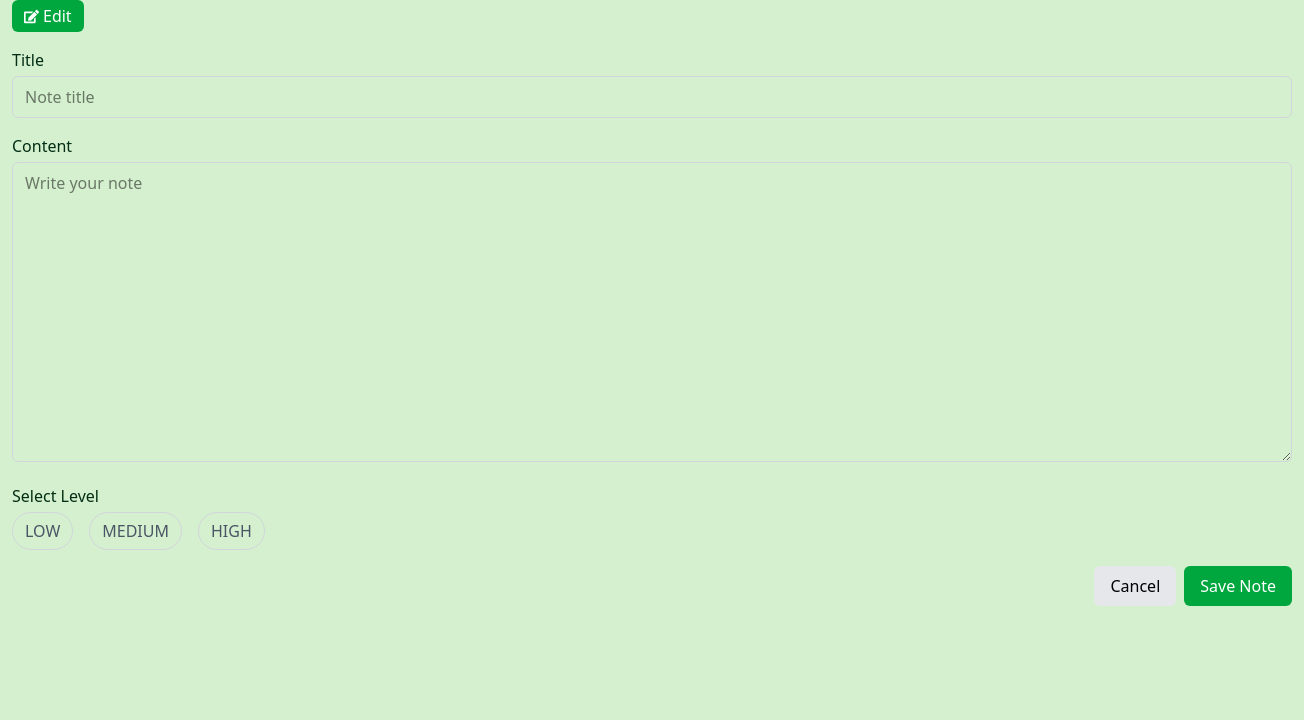
Test: TodoEditor › validates inputs and shows error messages
The width and height of the screenshot is (1304, 720).
Click the button with test id "save-button" at (1238, 586), box [1184,566,1292,606]
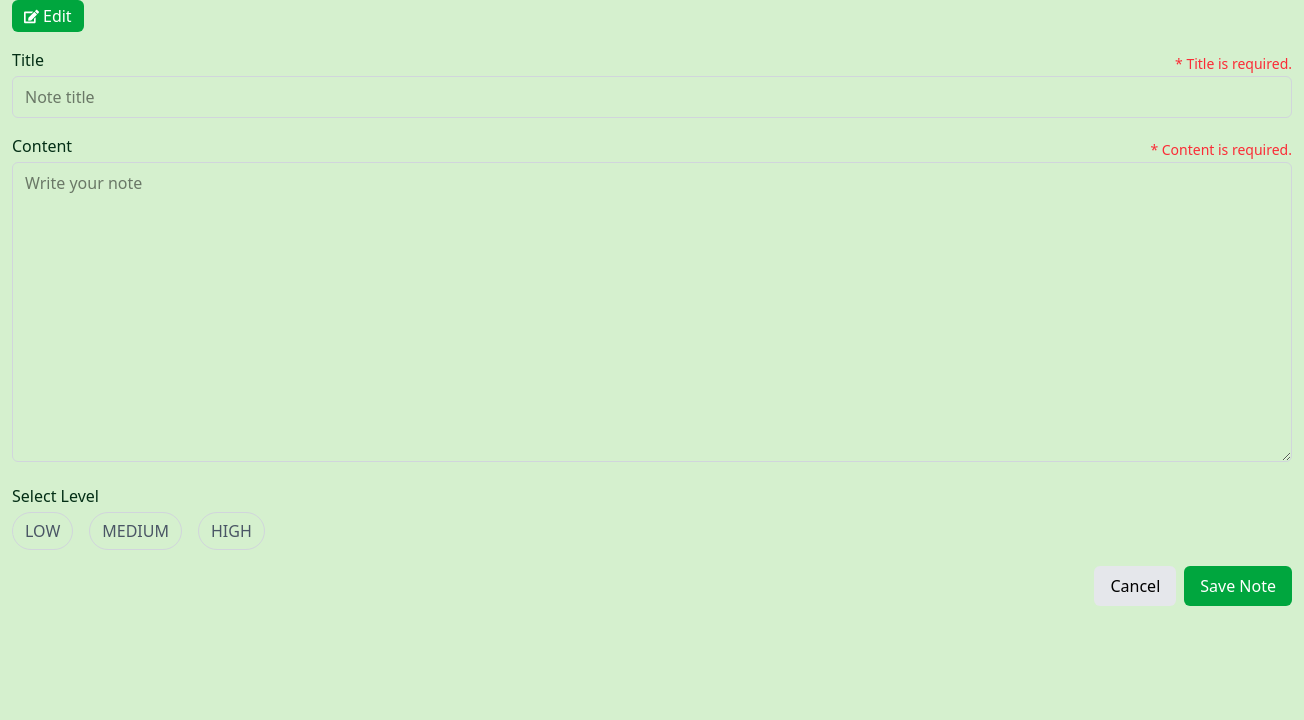
expect the text "* Title is required." is shown: met, box [1175,54,1292,74]
expect the text "* Content is required." is shown: met, box [1150,140,1292,160]
